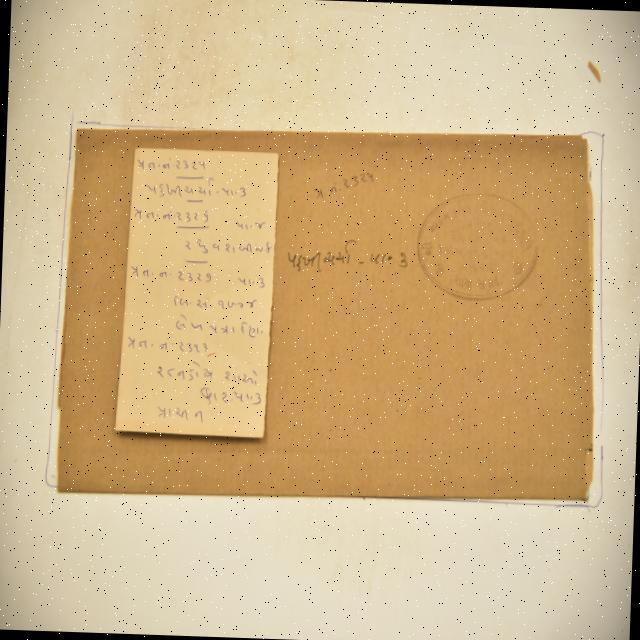text_paragraph: (57, 128, 587, 497)
